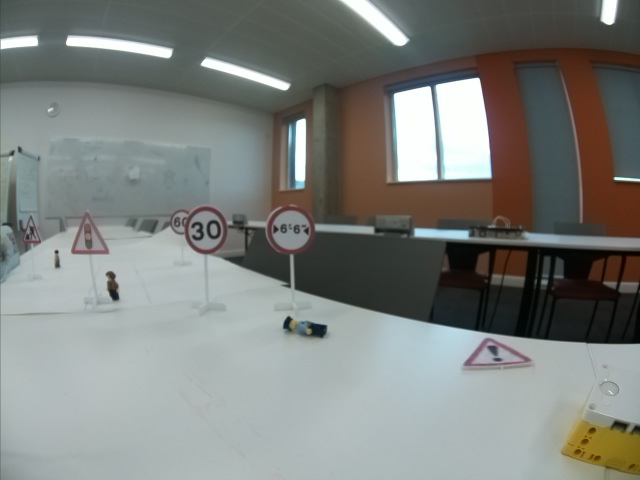30mph: (185, 204, 230, 252)
60mph: (170, 211, 189, 233)
6ft6: (260, 205, 316, 253)
Lego Man: (282, 315, 328, 338), (104, 271, 120, 302), (52, 247, 63, 269)
Roadworks: (22, 217, 42, 244)
Traffic lights: (69, 210, 109, 255)
Warning: (461, 336, 536, 370)
